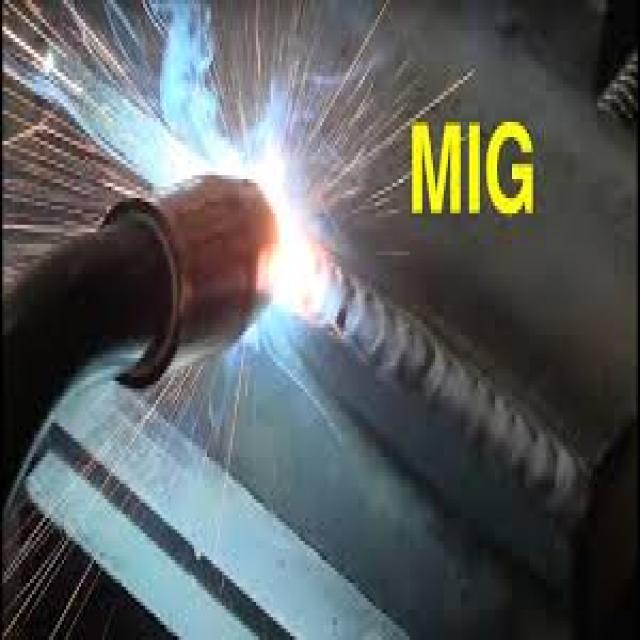welding: (274, 202, 310, 304), (218, 148, 277, 183)
